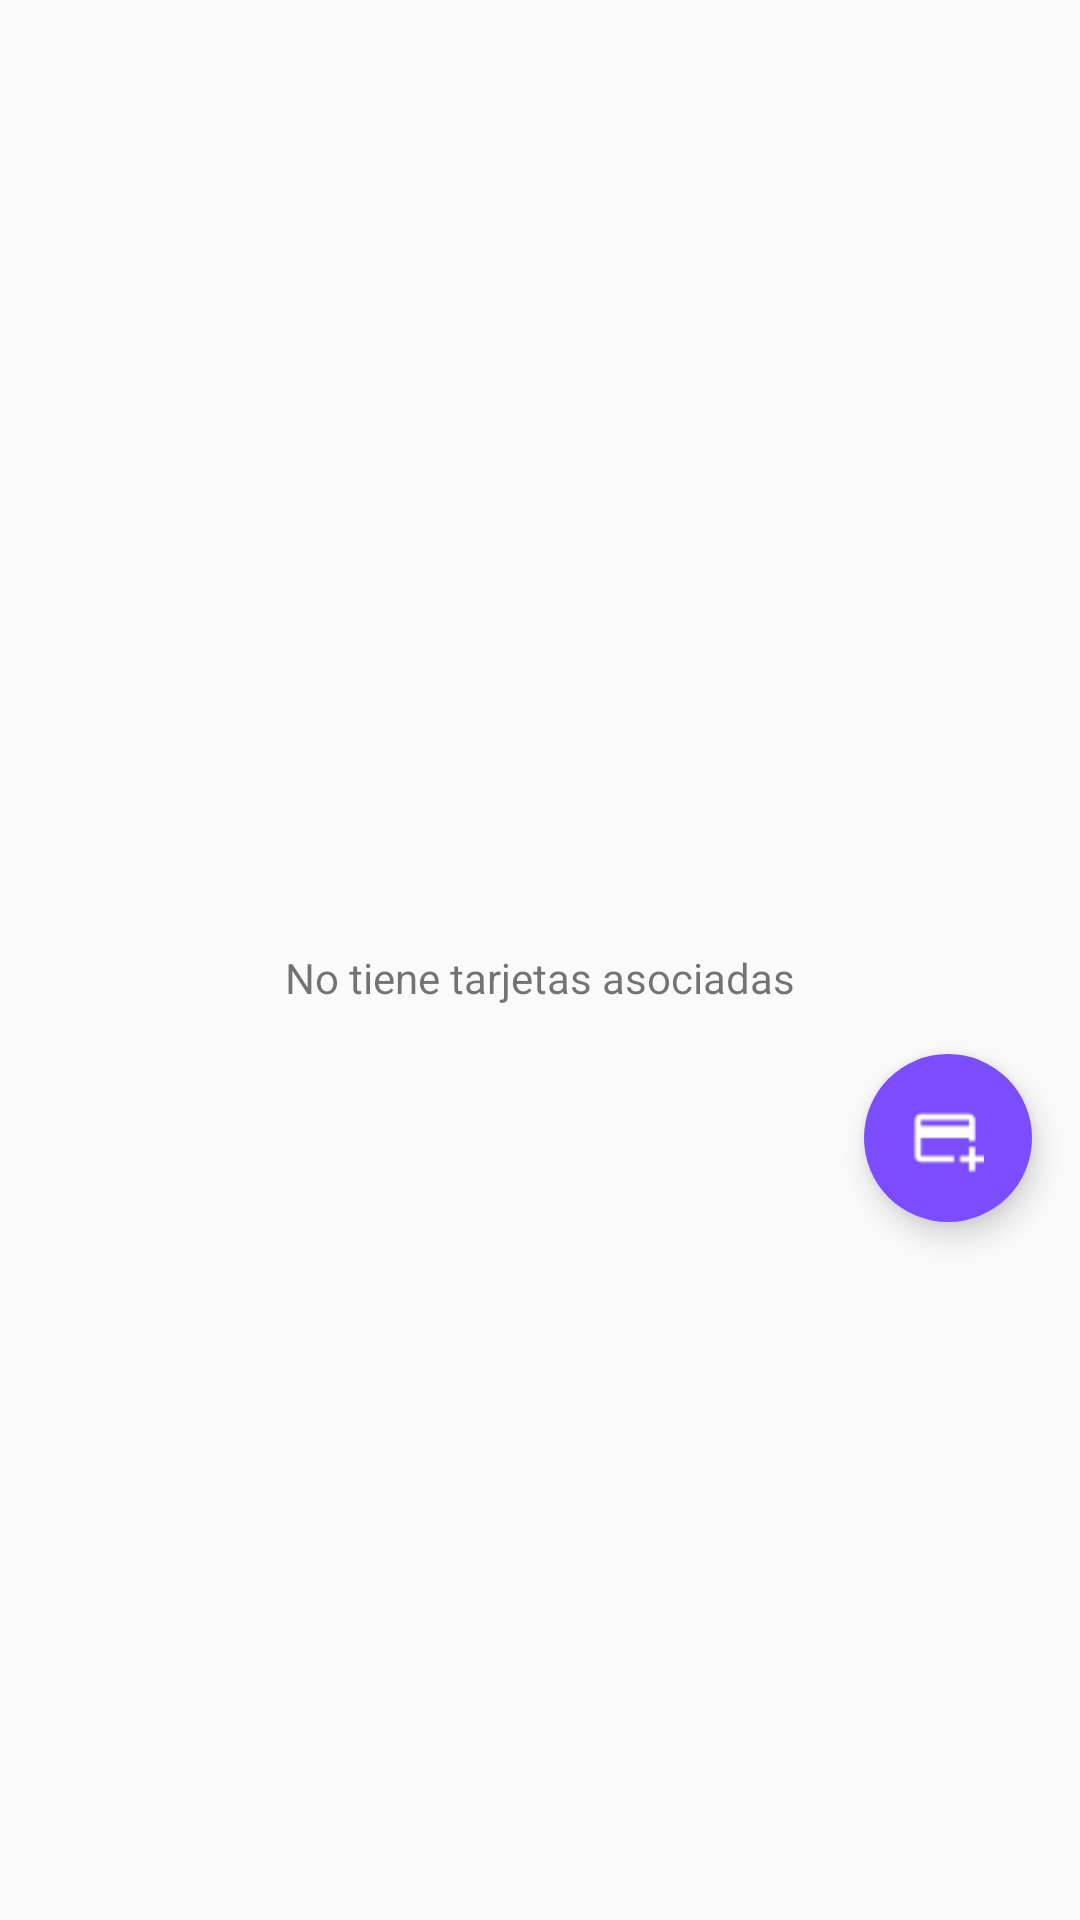

Named icons in this screenshot (1080px x 1920px) and their bounding boxes, (x1, y1, x2, y2):
credit card: (864, 1054, 1032, 1222)
